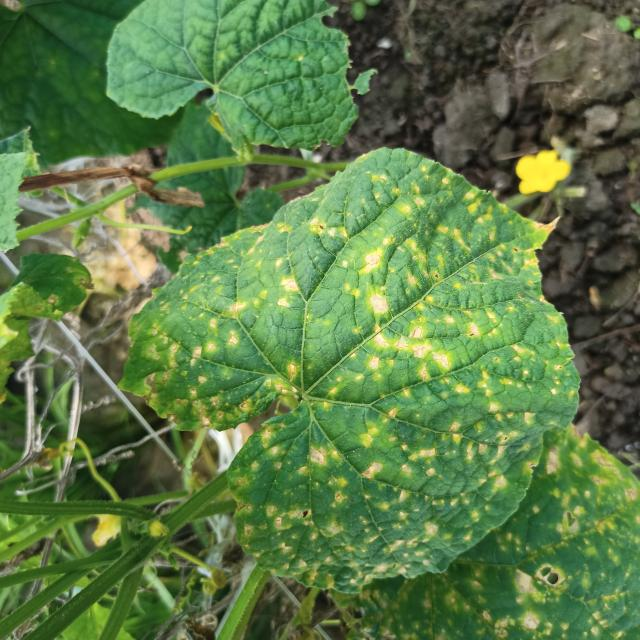disease_cucumber: (138, 170, 572, 594), (355, 434, 638, 639)
